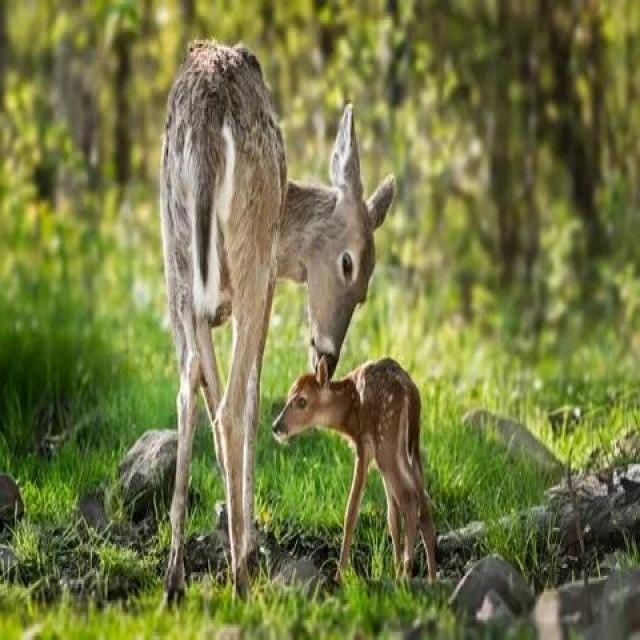deer: (116, 30, 380, 617)
